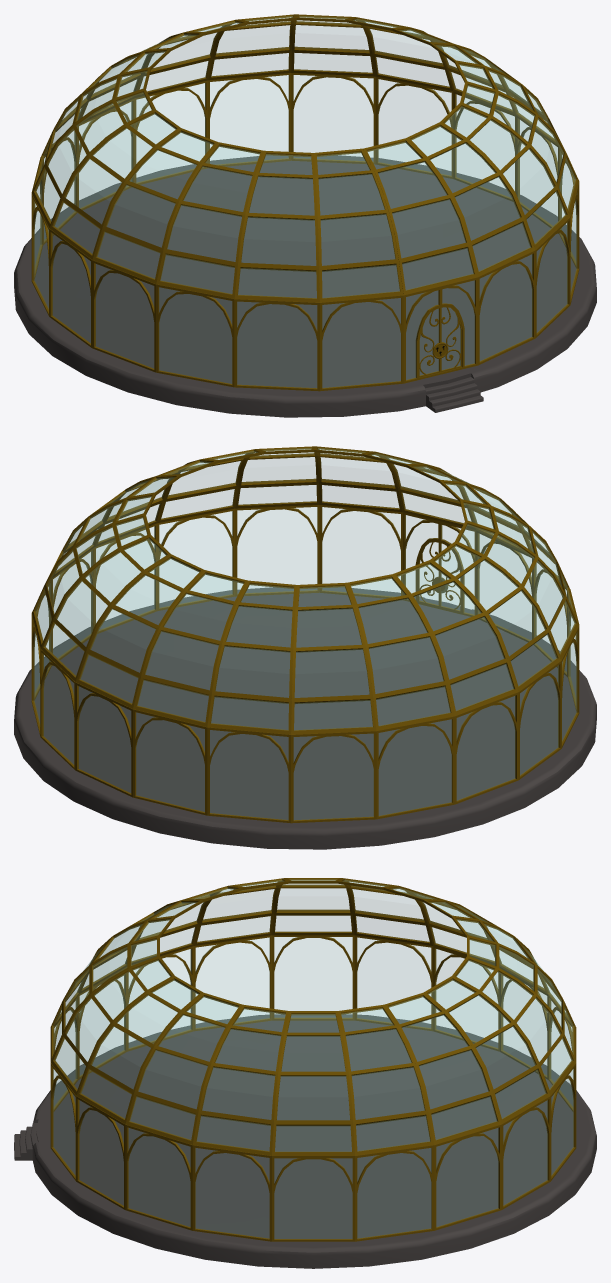
The model's file is Greenhouse.fbx.
The picture shows the model from 3 angles, top to bottom: view 1: azimuth 30°, elevation 25°; view 2: azimuth 150°, elevation 25°; view 3: azimuth 270°, elevation 25°; orthographic projection. The views are drawn at different scales.
Parts seen in each view (by area): view 1: SmallGreenhouseBase, SmallGreenhouse_RoofPanel_Glass (×20), SmallGreenhouseWall_Glass (×17), SmallGreenhouse_RoofPanel_Rim (×20), SmallGreenhouseWall_Rim (×17), Glass, Rims, Right_DoorGlass, Left_DoorGlass, Right_Door; view 2: SmallGreenhouseBase, SmallGreenhouse_RoofPanel_Glass (×20), SmallGreenhouseWall_Glass (×17), SmallGreenhouse_RoofPanel_Rim (×20), SmallGreenhouseWall_Rim (×17), Glass, Rims, Right_Door, Left_DoorGlass, Right_DoorGlass; view 3: SmallGreenhouseBase, SmallGreenhouse_RoofPanel_Glass (×20), SmallGreenhouseWall_Glass (×18), SmallGreenhouse_RoofPanel_Rim (×20), SmallGreenhouseWall_Rim (×18).
Part boxes in pixels (x1,y1,x2,y2): SmallGreenhouseBase: (14,155,596,417); SmallGreenhouse_RoofPanel_Glass (×20): (35,16,575,298); SmallGreenhouseWall_Glass (×17): (34,75,575,388); SmallGreenhouse_RoofPanel_Rim (×20): (32,14,578,302); SmallGreenhouseWall_Rim (×17): (31,73,579,391); Glass: (406,281,474,379); Rims: (403,277,477,383); Right_DoorGlass: (442,307,460,369); Left_DoorGlass: (420,309,438,375); Right_Door: (432,306,462,372); SmallGreenhouseBase: (14,587,596,849); SmallGreenhouse_RoofPanel_Glass (×20): (35,448,575,730); SmallGreenhouseWall_Glass (×17): (35,507,576,820); SmallGreenhouse_RoofPanel_Rim (×20): (32,446,578,734); SmallGreenhouseWall_Rim (×17): (31,505,579,823); Glass: (405,515,473,614); Rims: (403,512,476,616); Right_Door: (417,541,448,607); Left_DoorGlass: (441,544,459,609); Right_DoorGlass: (420,542,438,604); SmallGreenhouseBase: (14,1014,596,1268); SmallGreenhouse_RoofPanel_Glass (×20): (53,879,573,1151); SmallGreenhouseWall_Glass (×18): (53,937,573,1238); SmallGreenhouse_RoofPanel_Rim (×20): (50,878,576,1155); SmallGreenhouseWall_Rim (×18): (50,935,576,1241).
Bounding box in the file's own units: 28.28 × 11.16 × 29.07.
